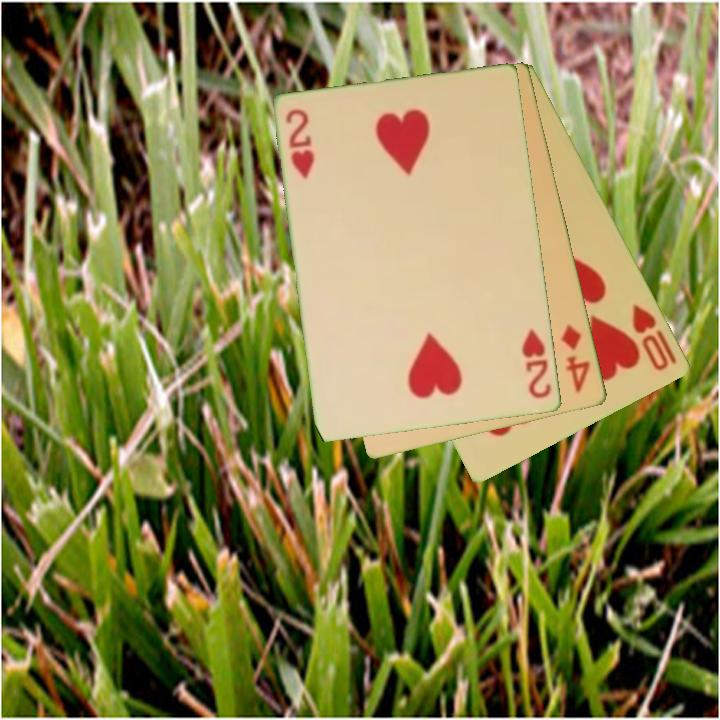10h: (629, 300, 680, 374)
2h: (519, 325, 555, 402), (283, 106, 318, 183)
4d: (558, 321, 594, 396)
